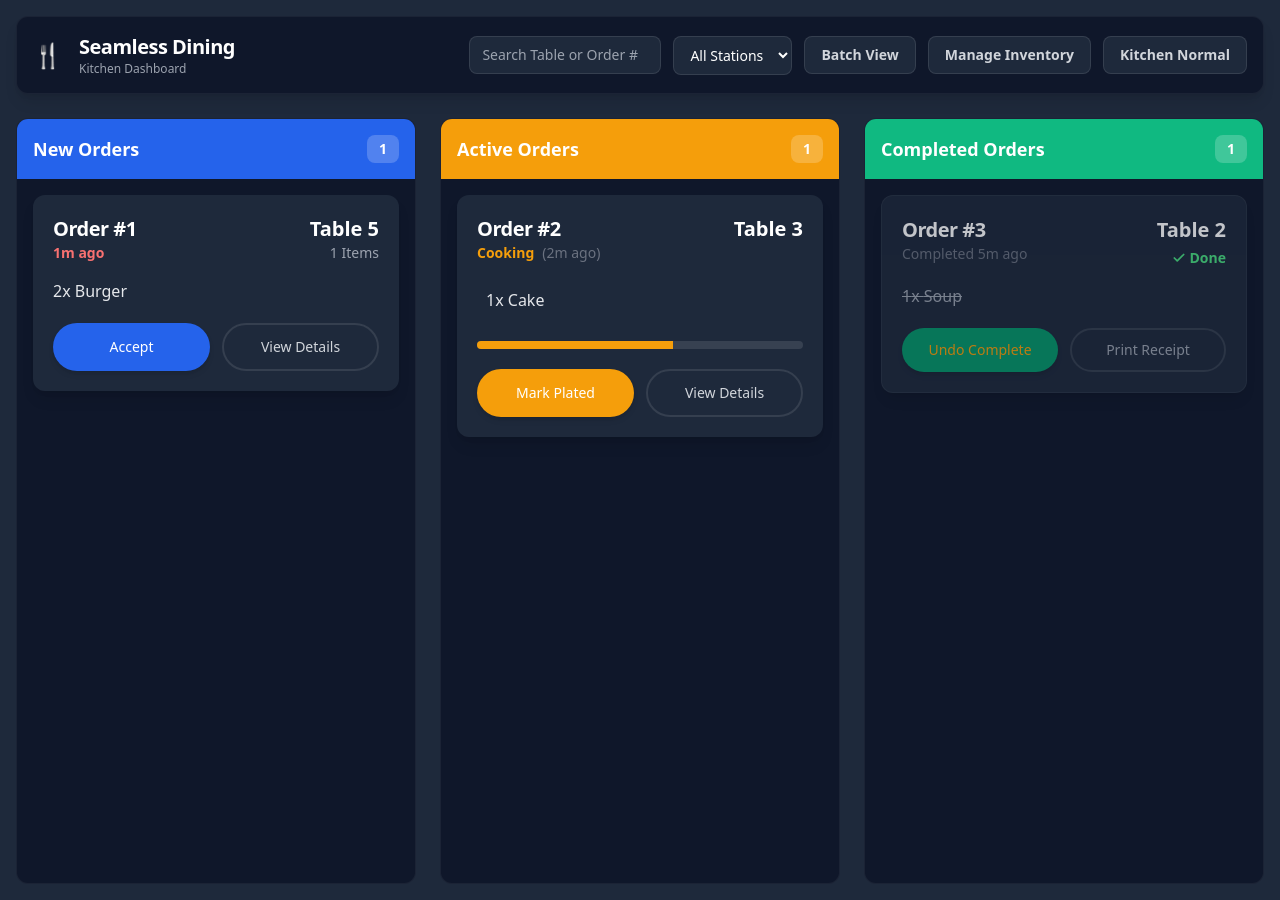
Dashboard Component › toggles batch view and aggregates items
Click the button "Batch View".
click(860, 55)  # box [804,36,916,74]
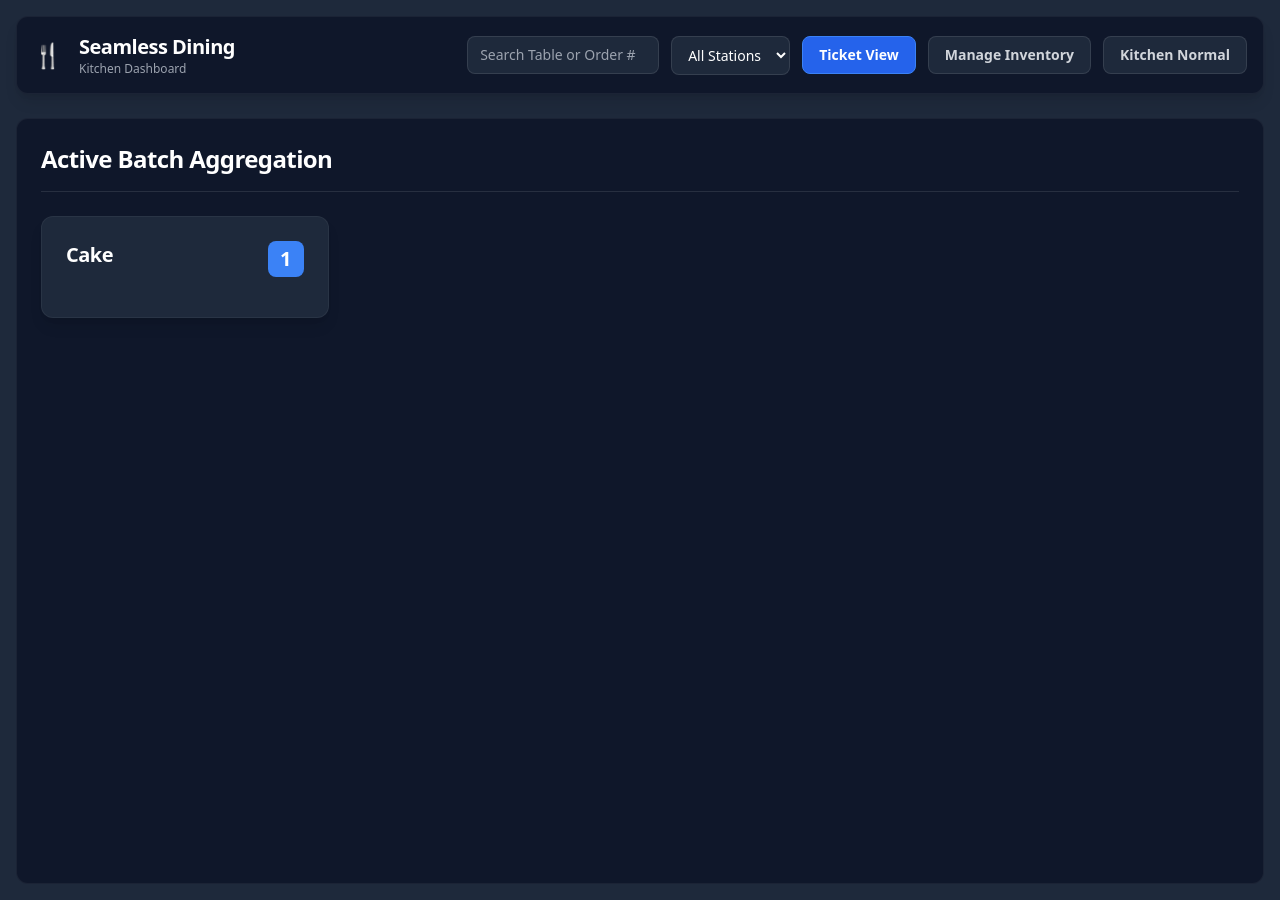
Expected: the heading "Cake" is shown, [66,241,113,269]
Result: the heading "Active Batch Aggregation" is shown at [41,143,1239,192]
Result: the text "Soup" is gone
